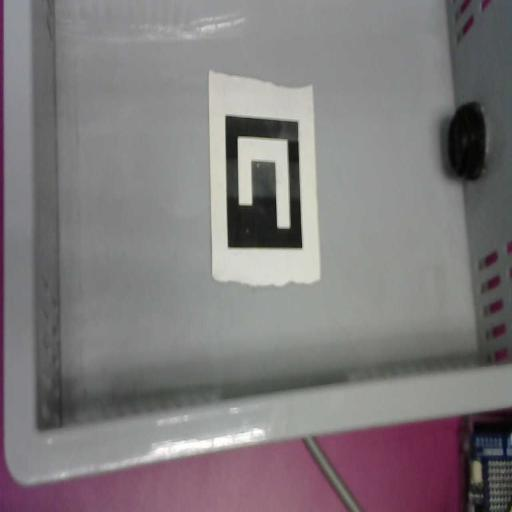QR: (207, 68, 324, 288)
